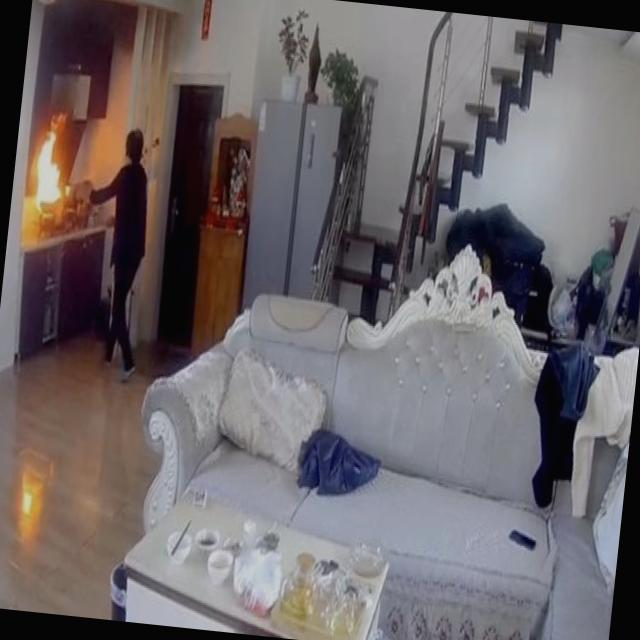fire: (22, 102, 79, 228)
